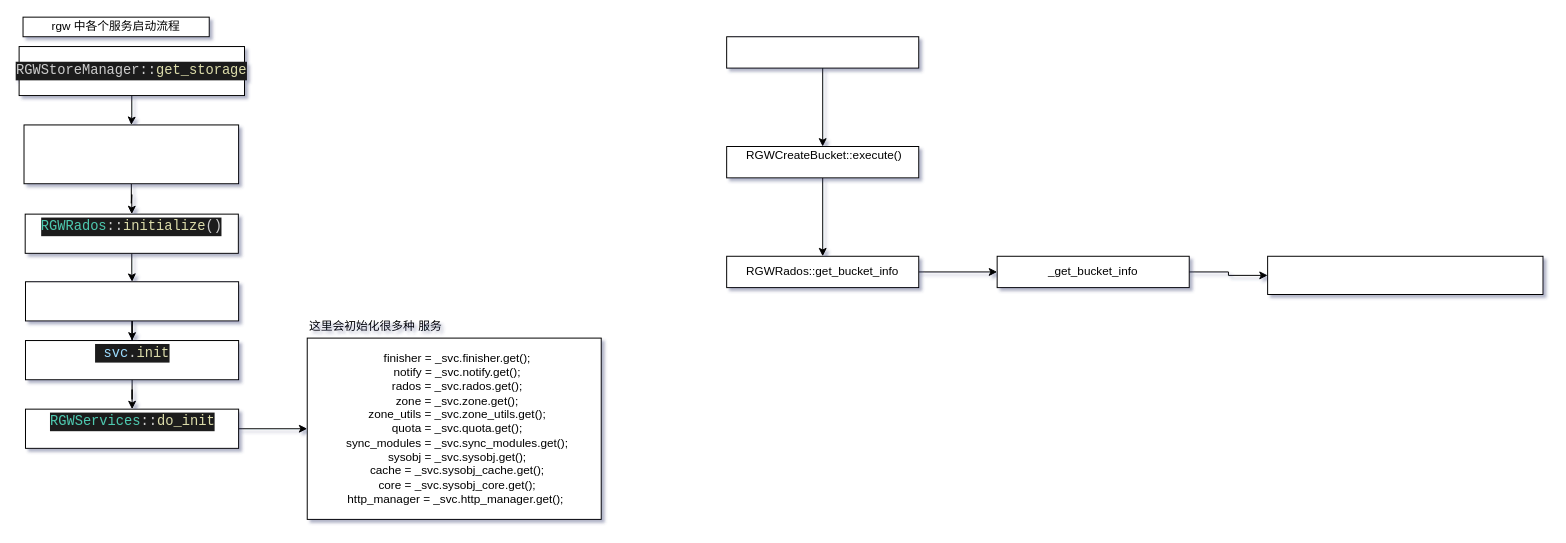
Image size: 1566x543. Some labels were removed from this diagram. The centre of each missing label's shape, as x and y in pixels:
"get_bucket_meta_oid(entry_point.bucket, oid); 构建 meta对象的前缀" belongs at point 1405,274.
"RGWRados:: init_svc" belongs at point 131,301.
"RGWStoreManager :: init_storage_provider" belongs at point 131,154.
"桶的元数据 生成 meta" belongs at point 822,52.
